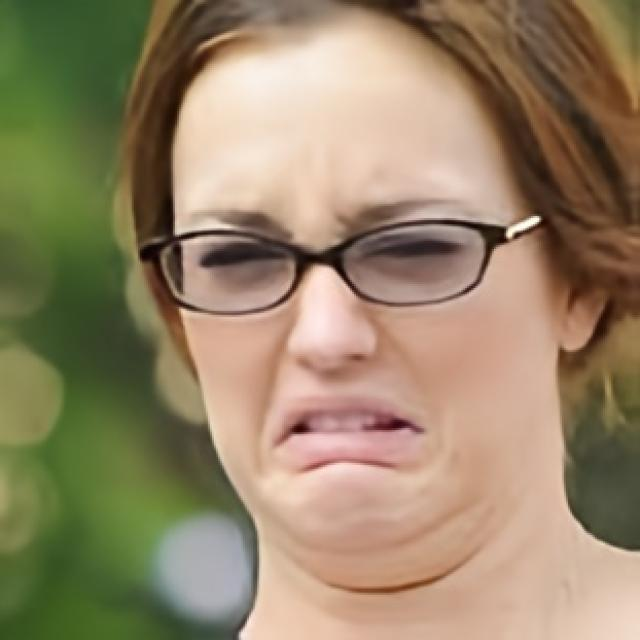disgust: (170, 0, 560, 554)
